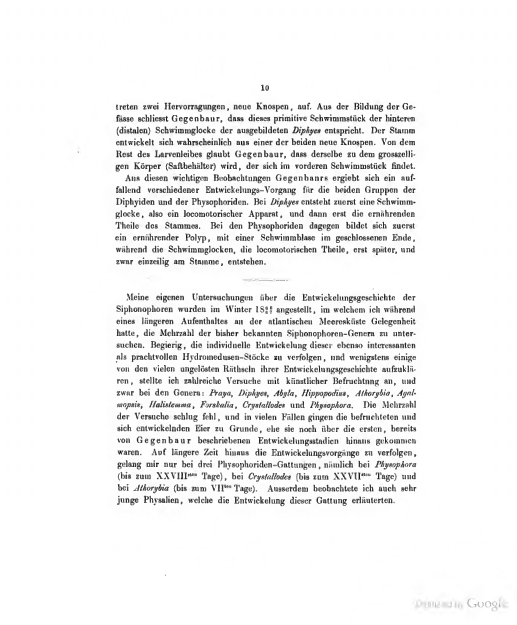MainZone: (108, 280, 424, 515), (106, 98, 421, 273)
NoiseZone: (406, 590, 517, 625)
NumberingZone_page: (246, 79, 282, 96)
